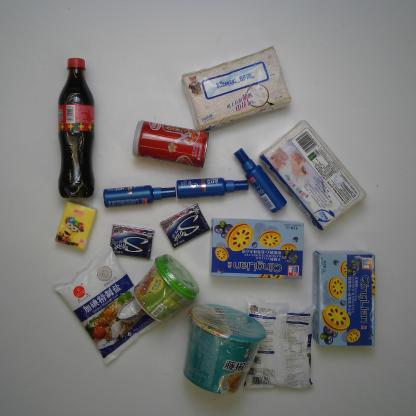Canned Food: (130, 117, 211, 165)
Dessert: (313, 244, 380, 348), (209, 216, 304, 282)
Drink: (56, 55, 98, 198)
Gum: (159, 203, 211, 250), (106, 224, 155, 262)
Instant Drink: (131, 250, 197, 323)
Instant Noodles: (183, 301, 266, 394)
Personal Hygiene: (231, 148, 287, 214), (102, 184, 176, 208), (174, 178, 248, 198)
Seasoner: (48, 242, 162, 364), (243, 292, 316, 392)
Tissue: (257, 122, 367, 230), (181, 45, 292, 133), (55, 201, 98, 249)
